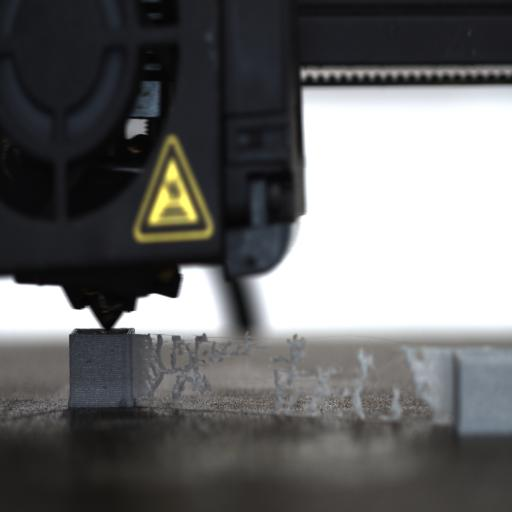stringing: (271, 336, 342, 414), (400, 344, 444, 418), (141, 334, 177, 402), (201, 330, 253, 365), (380, 386, 404, 422)
